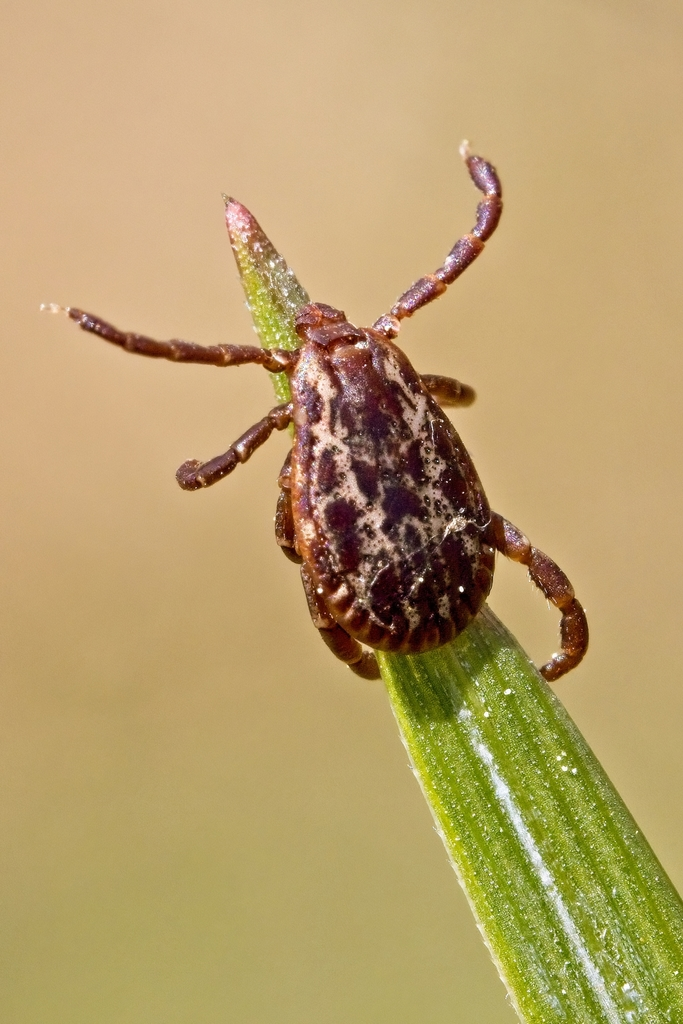garrapata: (53, 132, 608, 720)
